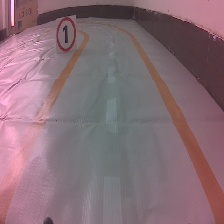limit: (55, 15, 79, 53)
